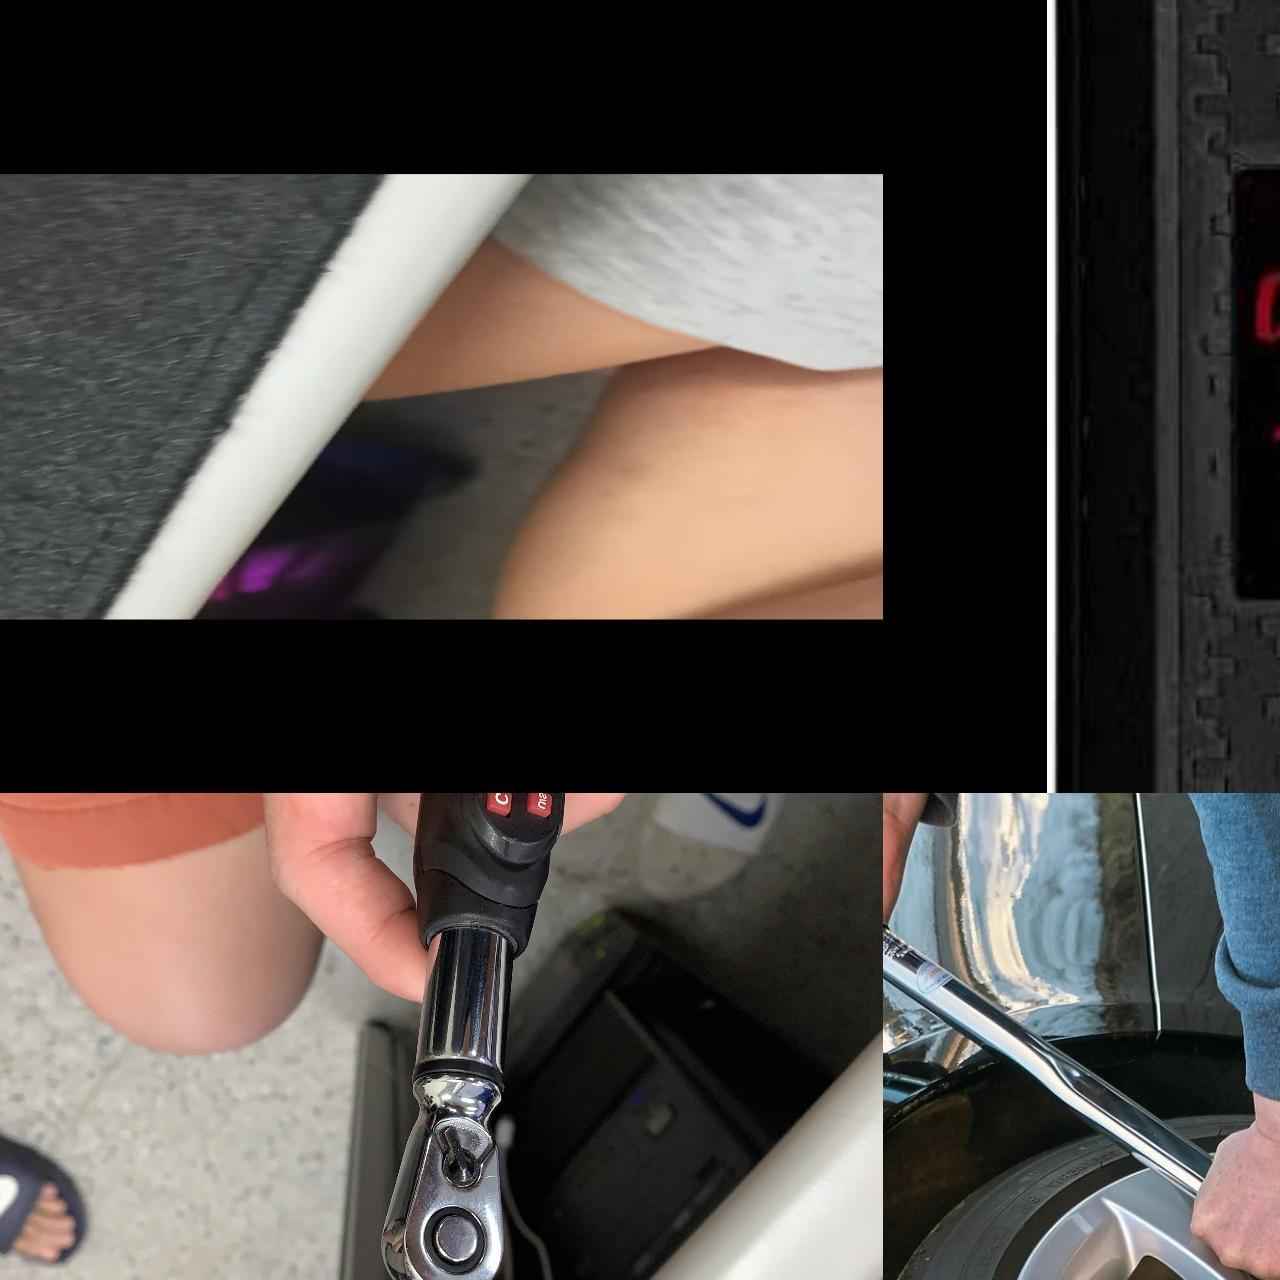Tool: (379, 1057, 518, 1280)
